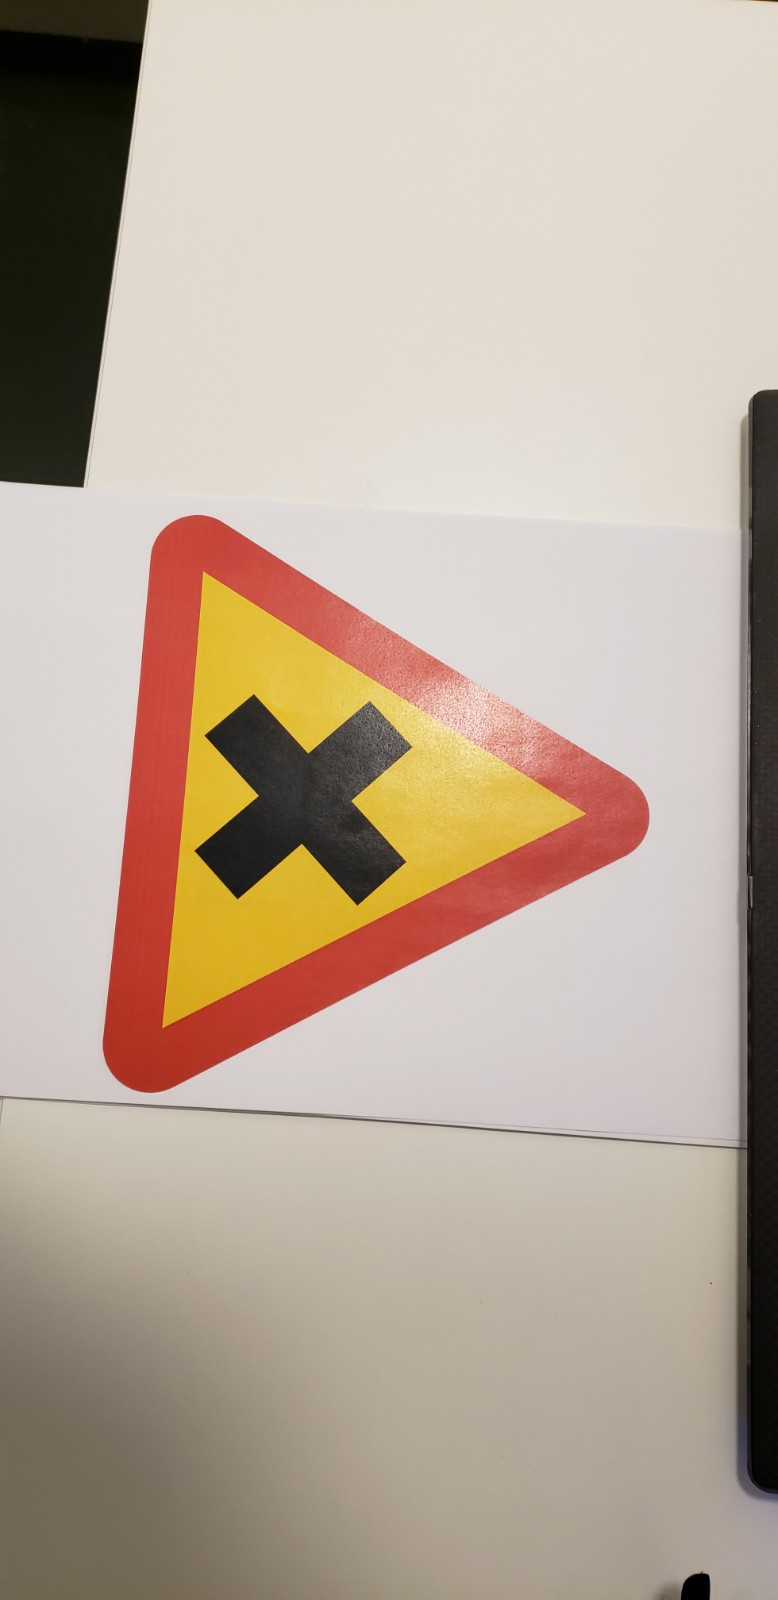junction: (94, 436, 601, 1162)
